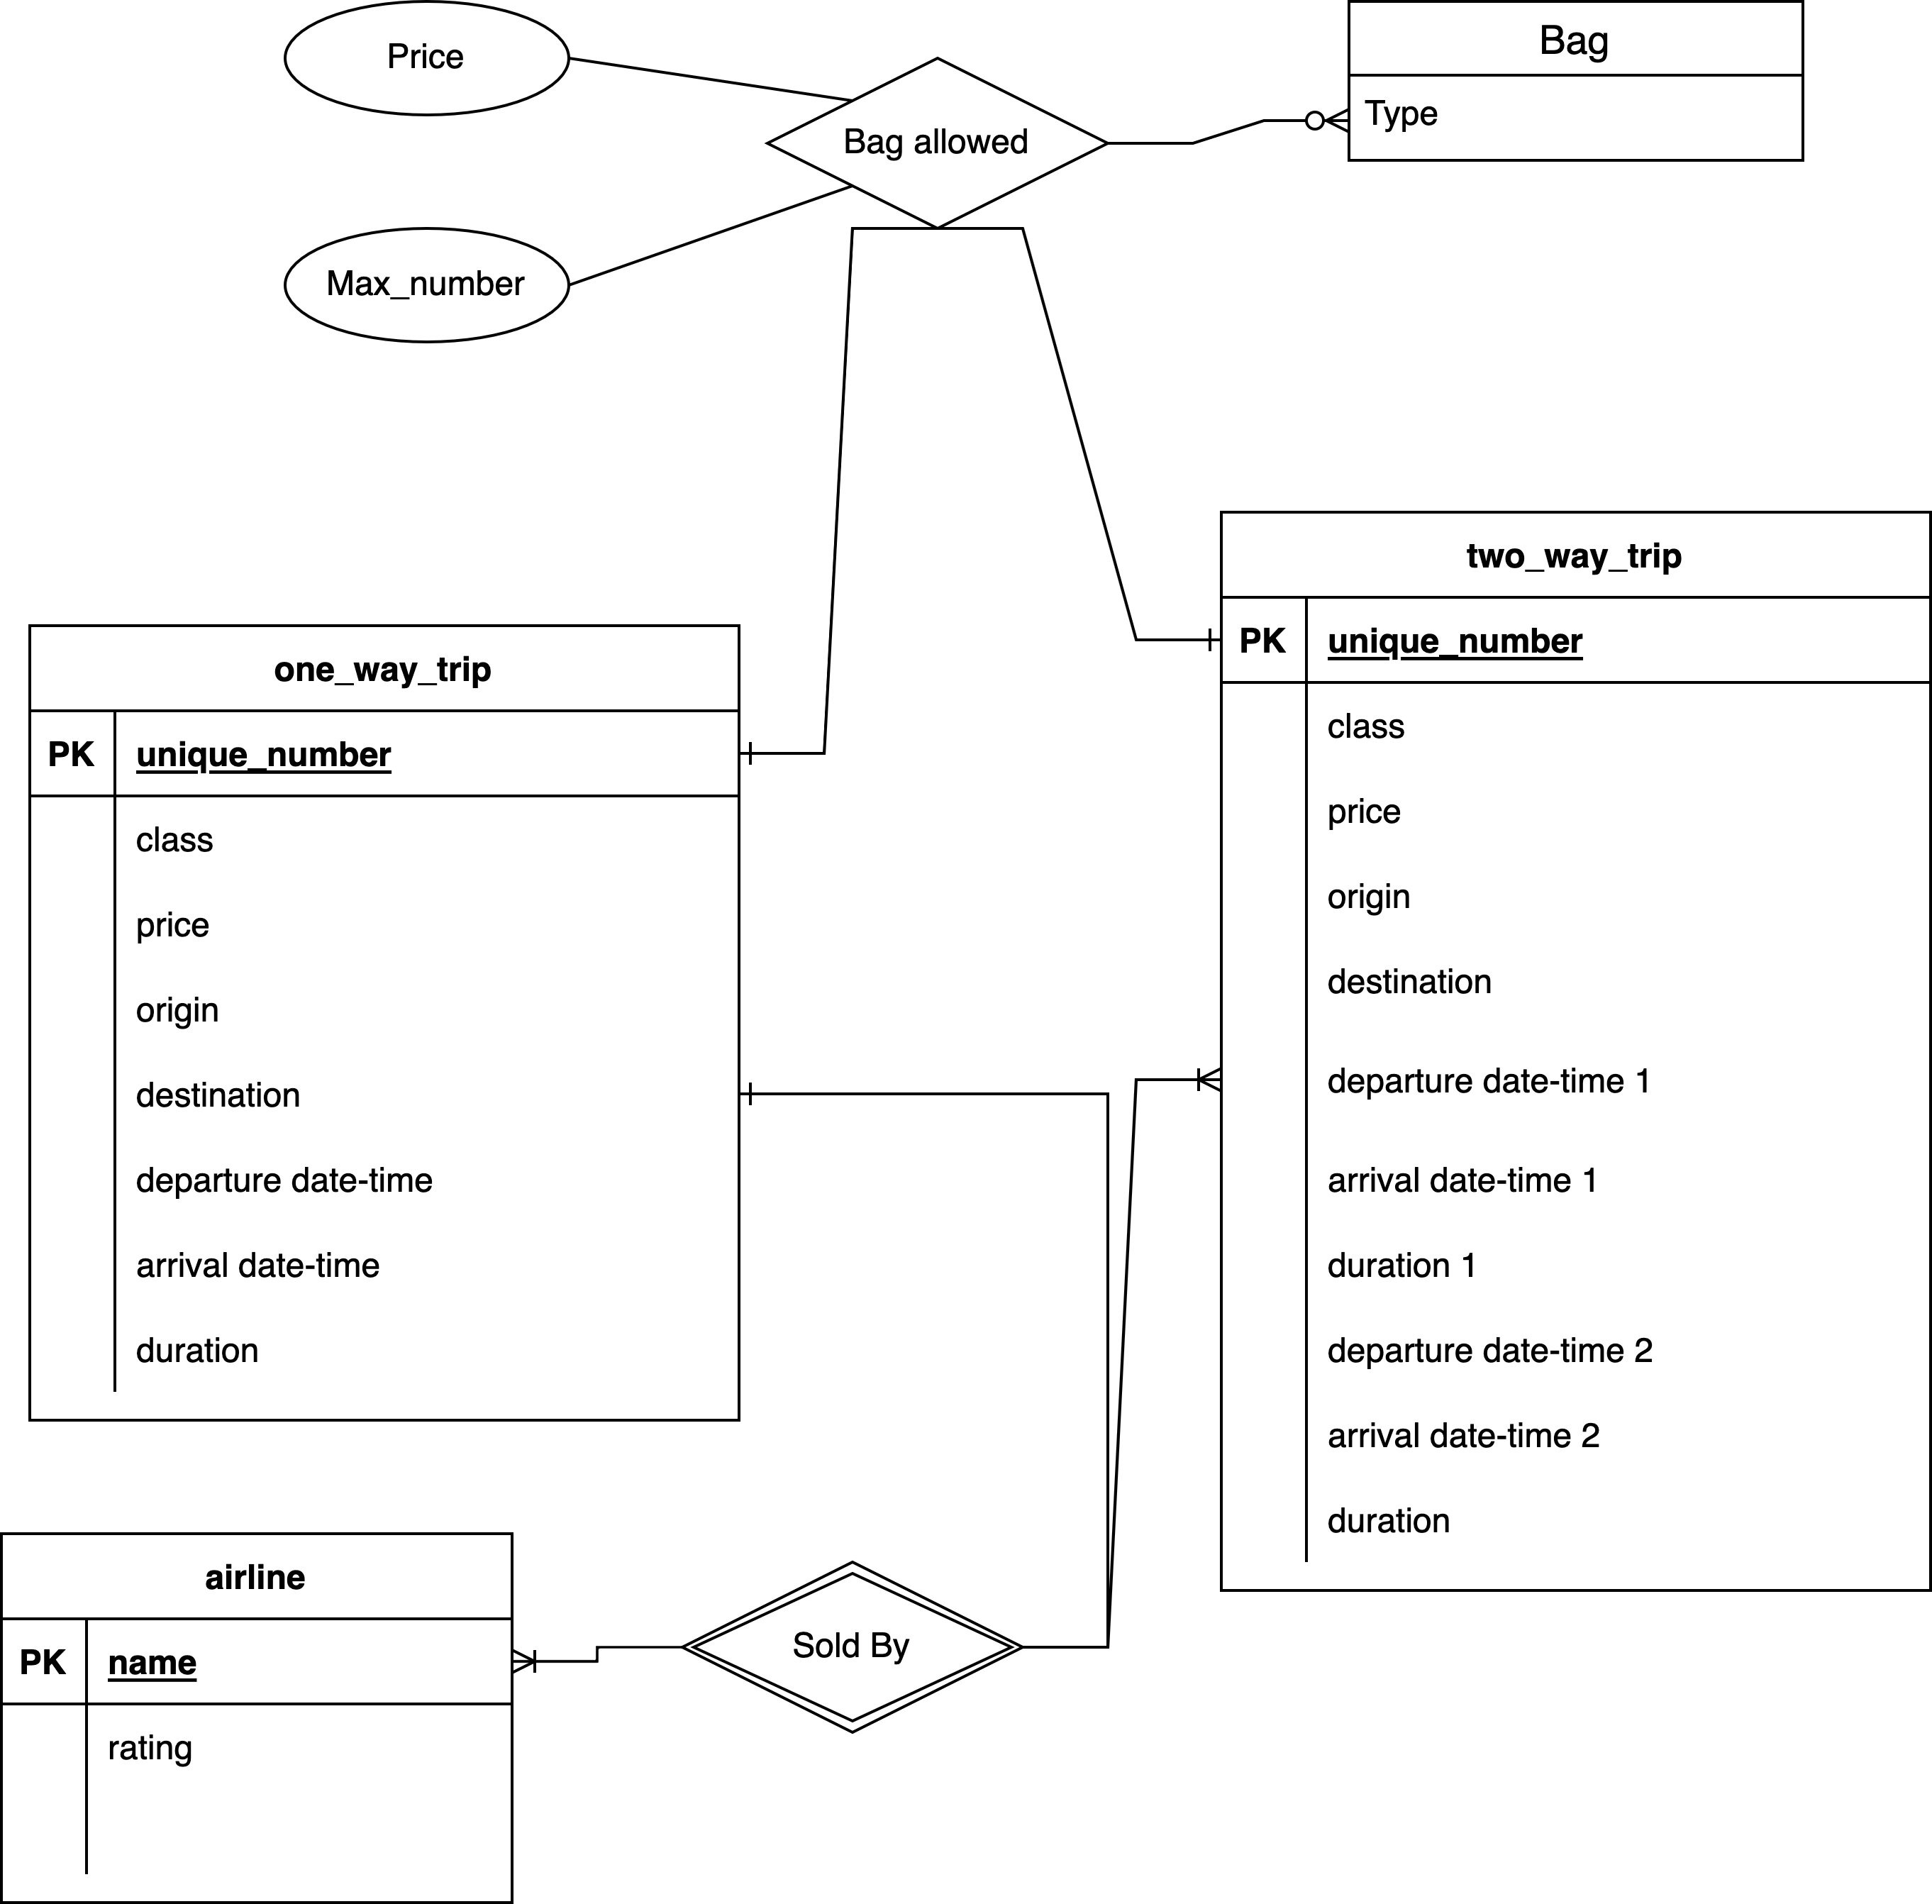entity: (1217, 507, 1932, 1595), (21, 616, 742, 1429), (2, 1526, 522, 1904), (1347, 1, 1804, 167)
ident_rel: (692, 1561, 1026, 1732)
many: (1261, 105, 1350, 138), (512, 1644, 599, 1677), (1138, 1066, 1223, 1097)
one: (739, 741, 826, 772), (740, 1078, 823, 1111), (1138, 624, 1224, 654)
rel: (784, 60, 1101, 235)
rel_attr: (280, 226, 573, 343), (282, 1, 566, 116)
